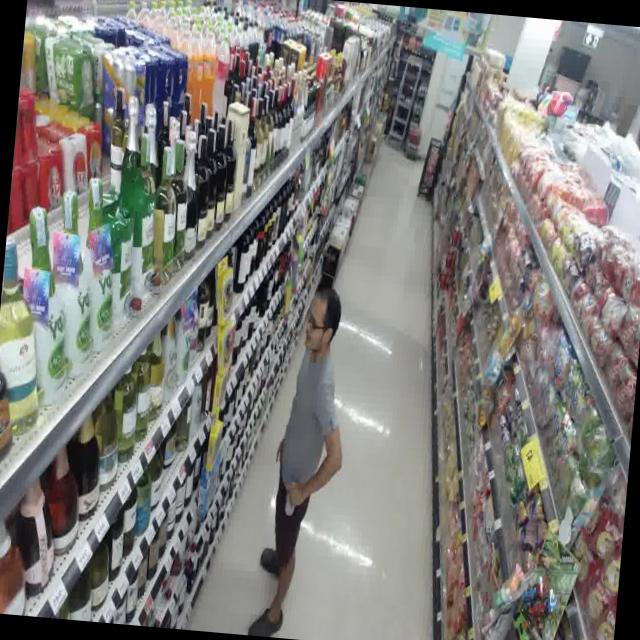shoplifting: (225, 255, 368, 640)
